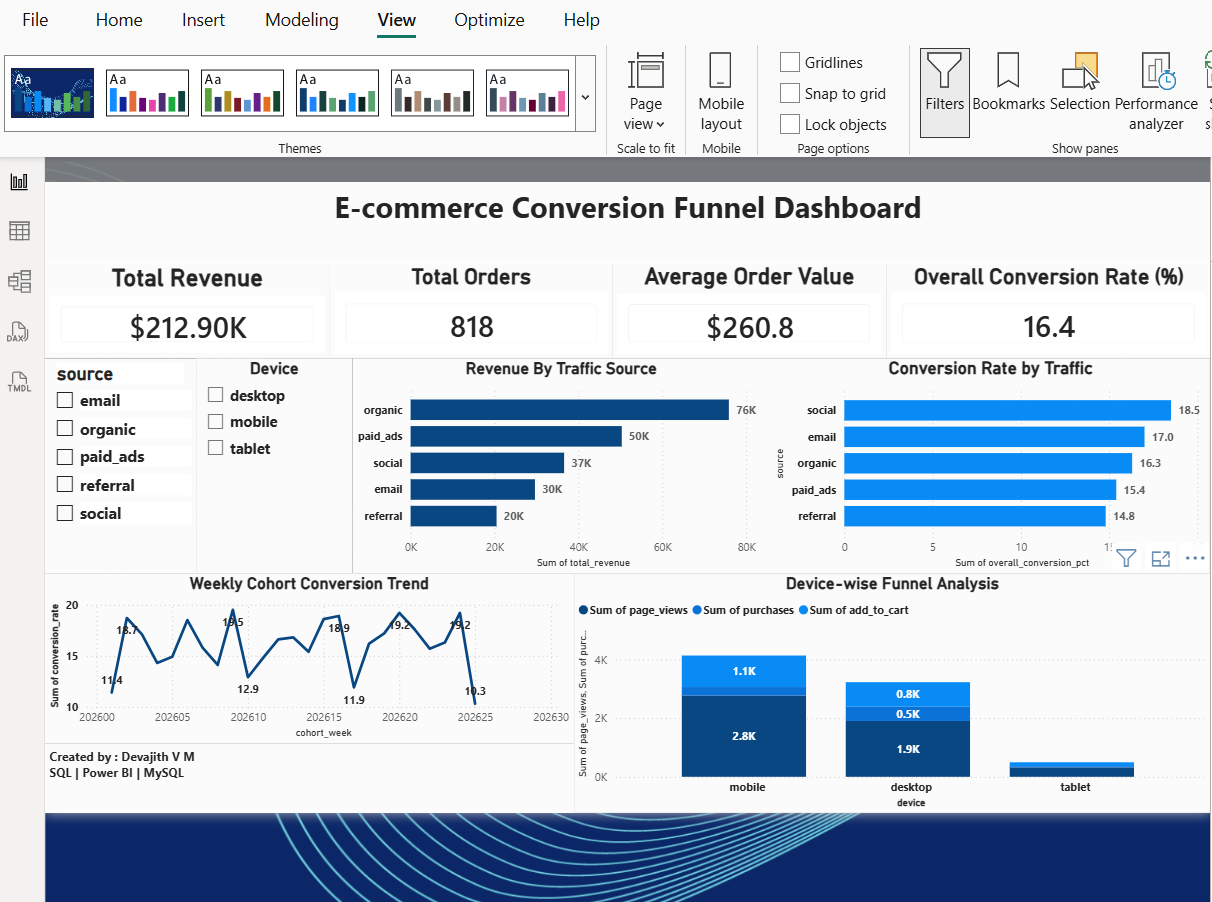

What the dashboard file says about the page in this screenshot:
{"tool":"powerbi","page":{"name":"Page 1","canvas":[1280,720],"ordinal":0},"visuals":[{"type":"textbox","box":[0,27.1,1280,90],"z":1},{"type":"cardVisual","title":"Total Revenue","fields":{"Data":["Sum(revenue.total_revenue)"]},"box":[0,116.6,312.9,104.3],"z":2},{"type":"cardVisual","title":"Total Orders","fields":{"Data":["Sum(revenue.total_orders)"]},"box":[312.9,116.6,310.1,104.3],"z":3},{"type":"cardVisual","title":" Average Order Value","fields":{"Data":["Avg(revenue.average_order_value)"]},"box":[623,116.6,300.5,104.3],"z":4},{"type":"cardVisual","title":"Overall Conversion Rate (%)","fields":{"Data":["Avg(conversion.overall_conversion_pct)"]},"box":[923.5,116.6,356.8,104.3],"z":5},{"type":"clusteredBarChart","title":"Revenue By Traffic Source","fields":{"Category":["revenue.source"],"Y":["Sum(revenue.total_revenue)"]},"box":[337.6,220.9,458.3,236],"z":6},{"type":"clusteredBarChart","title":"Conversion Rate by Traffic","fields":{"Category":["conversion.source"],"Y":["Sum(conversion.overall_conversion_pct)"]},"box":[795.9,220.9,484.4,236],"z":7},{"type":"lineChart","title":"Weekly Cohort Conversion Trend","fields":{"Category":["cohort.cohort_week"],"Y":["Sum(cohort.conversion_rate)"]},"box":[0,456.9,580.4,186.6],"z":8},{"type":"columnChart","title":"Device-wise Funnel Analysis","fields":{"Category":["drop-off.device"],"Y":["Sum(drop-off.page_views)","Sum(drop-off.purchases)","Sum(drop-off.add_to_cart)"]},"box":[580.4,456.9,699.8,263.5],"z":9},{"type":"slicer","fields":{"Values":["conversion.source"]},"box":[0,220.9,166,236],"z":10},{"type":"textbox","box":[0,643.6,580.4,76.8],"z":11},{"type":"slicer","title":"Device","fields":{"Values":["drop-off.device"]},"box":[166,220.9,171.5,236],"z":12}]}

Visuals, with their boxes on the page's 1280x720 design canvas (x1, y1, x2, y2). These are canvas units, not pixel positions in the 1212x902 screenshot, which may show the page scaled, cropped or inside an application window:
textbox: (0, 27, 1280, 117)
"Total Revenue" cardVisual: (0, 117, 313, 221)
"Total Orders" cardVisual: (313, 117, 623, 221)
" Average Order Value" cardVisual: (623, 117, 924, 221)
"Overall Conversion Rate (%)" cardVisual: (924, 117, 1280, 221)
"Revenue By Traffic Source" clusteredBarChart: (338, 221, 796, 457)
"Conversion Rate by Traffic" clusteredBarChart: (796, 221, 1280, 457)
"Weekly Cohort Conversion Trend" lineChart: (0, 457, 580, 644)
"Device-wise Funnel Analysis" columnChart: (580, 457, 1280, 720)
slicer - conversion.source: (0, 221, 166, 457)
textbox: (0, 644, 580, 720)
"Device" slicer: (166, 221, 338, 457)
